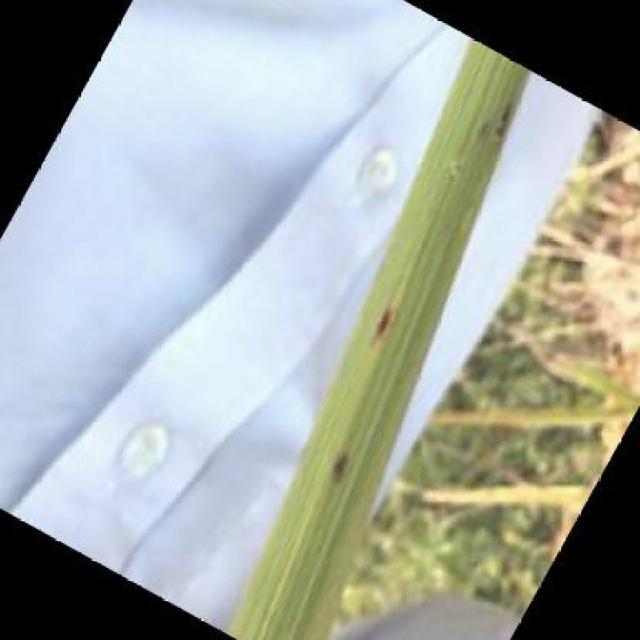Leaf_Blast: (353, 288, 413, 366), (472, 89, 528, 163), (310, 438, 370, 502)
